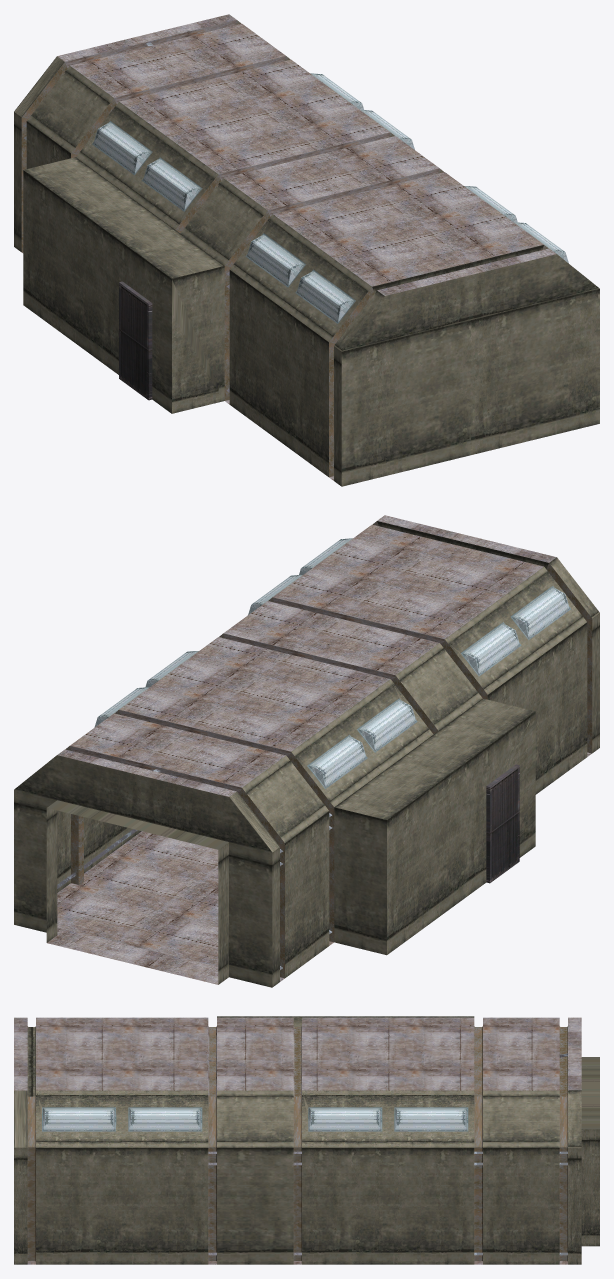
File: bombshop_las.obj
3 renders of one model, top to bottom at view 1: azimuth 30°, elevation 25°; view 2: azimuth 150°, elevation 25°; view 3: azimuth 270°, elevation 25°, orthographic. The views are drawn at different scales.
Visible parts, largest first — view 1: bombshop_LAs; view 2: bombshop_LAs; view 3: bombshop_LAs.
Part boxes in pixels (<box>): bombshop_LAs: <box>14,14,599,486</box>; bombshop_LAs: <box>14,515,599,987</box>; bombshop_LAs: <box>14,1016,599,1264</box>.
Bounding box in the file's own units: 7.31 × 4 × 13.61.
